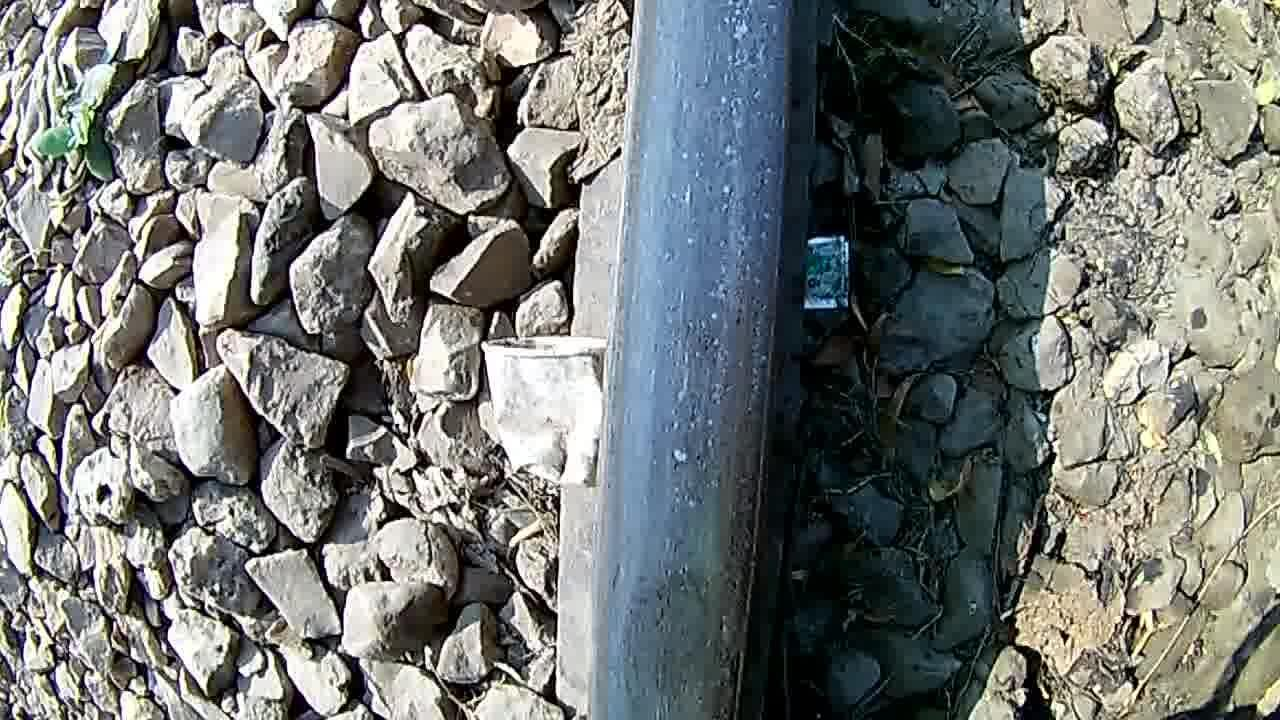crack: (576, 529, 753, 720)
